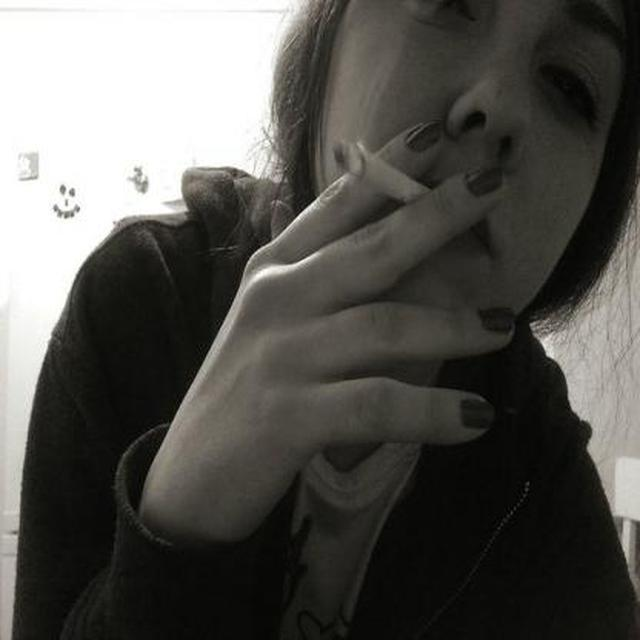smoking: (334, 140, 446, 215)
